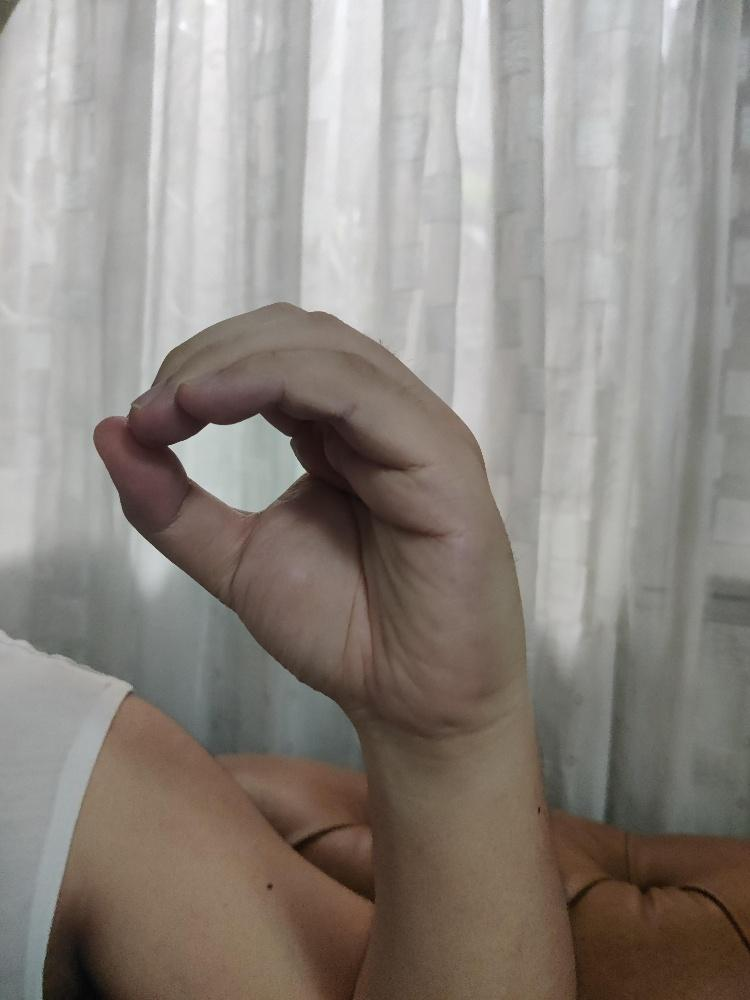o: (90, 299, 524, 721)
